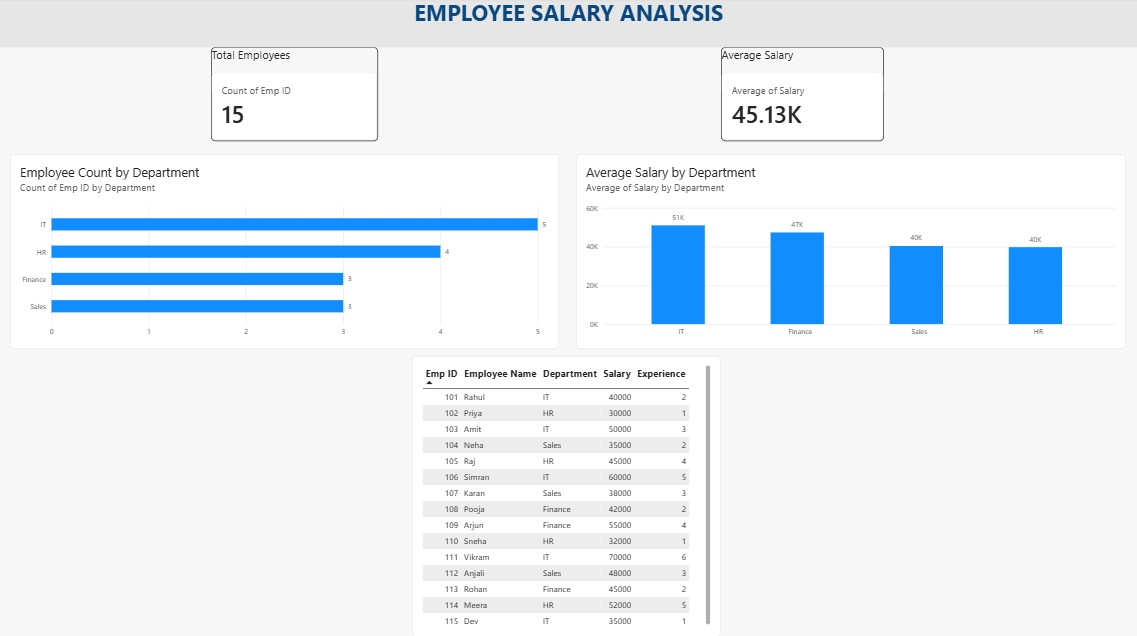

The dashboard page shown, as its layout file describes it:
{"tool":"powerbi","page":{"name":"Page 1","canvas":[1920,1080],"ordinal":0},"visuals":[{"type":"cardVisual","title":"Total Employees","fields":{"Data":["CountNonNull(Employee Data.Emp ID)"]},"box":[356.6,84.8,343.1,217.8],"z":0},{"type":"cardVisual","title":"Average Salary","fields":{"Data":["Avg(Employee Data.Salary)"]},"box":[1216.4,84.8,347,217.8],"z":1},{"type":"clusteredBarChart","title":"Employee Count by Department","fields":{"Category":["Employee Data.Department"],"Y":["CountNonNull(Employee Data.Emp ID)"]},"box":[19.3,316.1,925.3,418.3],"z":2},{"type":"clusteredColumnChart","title":"Average Salary by Department","fields":{"Category":["Employee Data.Department"],"Y":["Avg(Employee Data.Salary)"]},"box":[973.5,316.1,929.2,418.3],"z":3},{"type":"tableEx","fields":{"Values":["Employee Data.Emp ID","Employee Data.Employee Name","Employee Data.Department","Employee Data.Salary","Employee Data.Experience"]},"box":[699.8,749.9,516.6,329.6],"z":4},{"type":"textbox","box":[0,0,1920,84.8],"z":5}]}

Visuals, with their boxes in screenshot pixels (x1, y1, x2, y2), scaled from the page's 1920x1080 canvas onto the 1137x636 screenshot:
"Total Employees" cardVisual: region(211, 50, 414, 178)
"Average Salary" cardVisual: region(720, 50, 926, 178)
"Employee Count by Department" clusteredBarChart: region(11, 186, 559, 432)
"Average Salary by Department" clusteredColumnChart: region(576, 186, 1127, 432)
tableEx - Employee Data.Emp ID x Employee Data.Employee Name: region(414, 442, 720, 635)
textbox: region(0, 0, 1136, 50)
